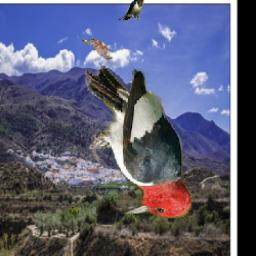Cuckoo: (81, 36, 113, 60)
Swallow: (118, 0, 145, 20)
Woodpecker: (83, 66, 190, 219)
